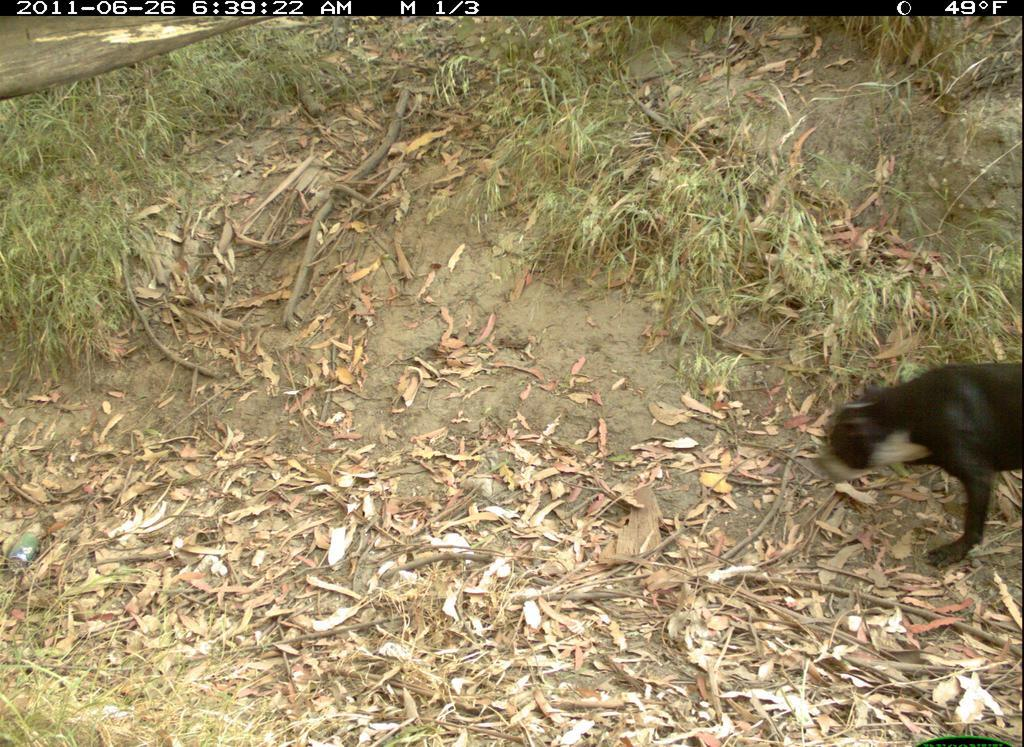dog: (808, 356, 1023, 575)
